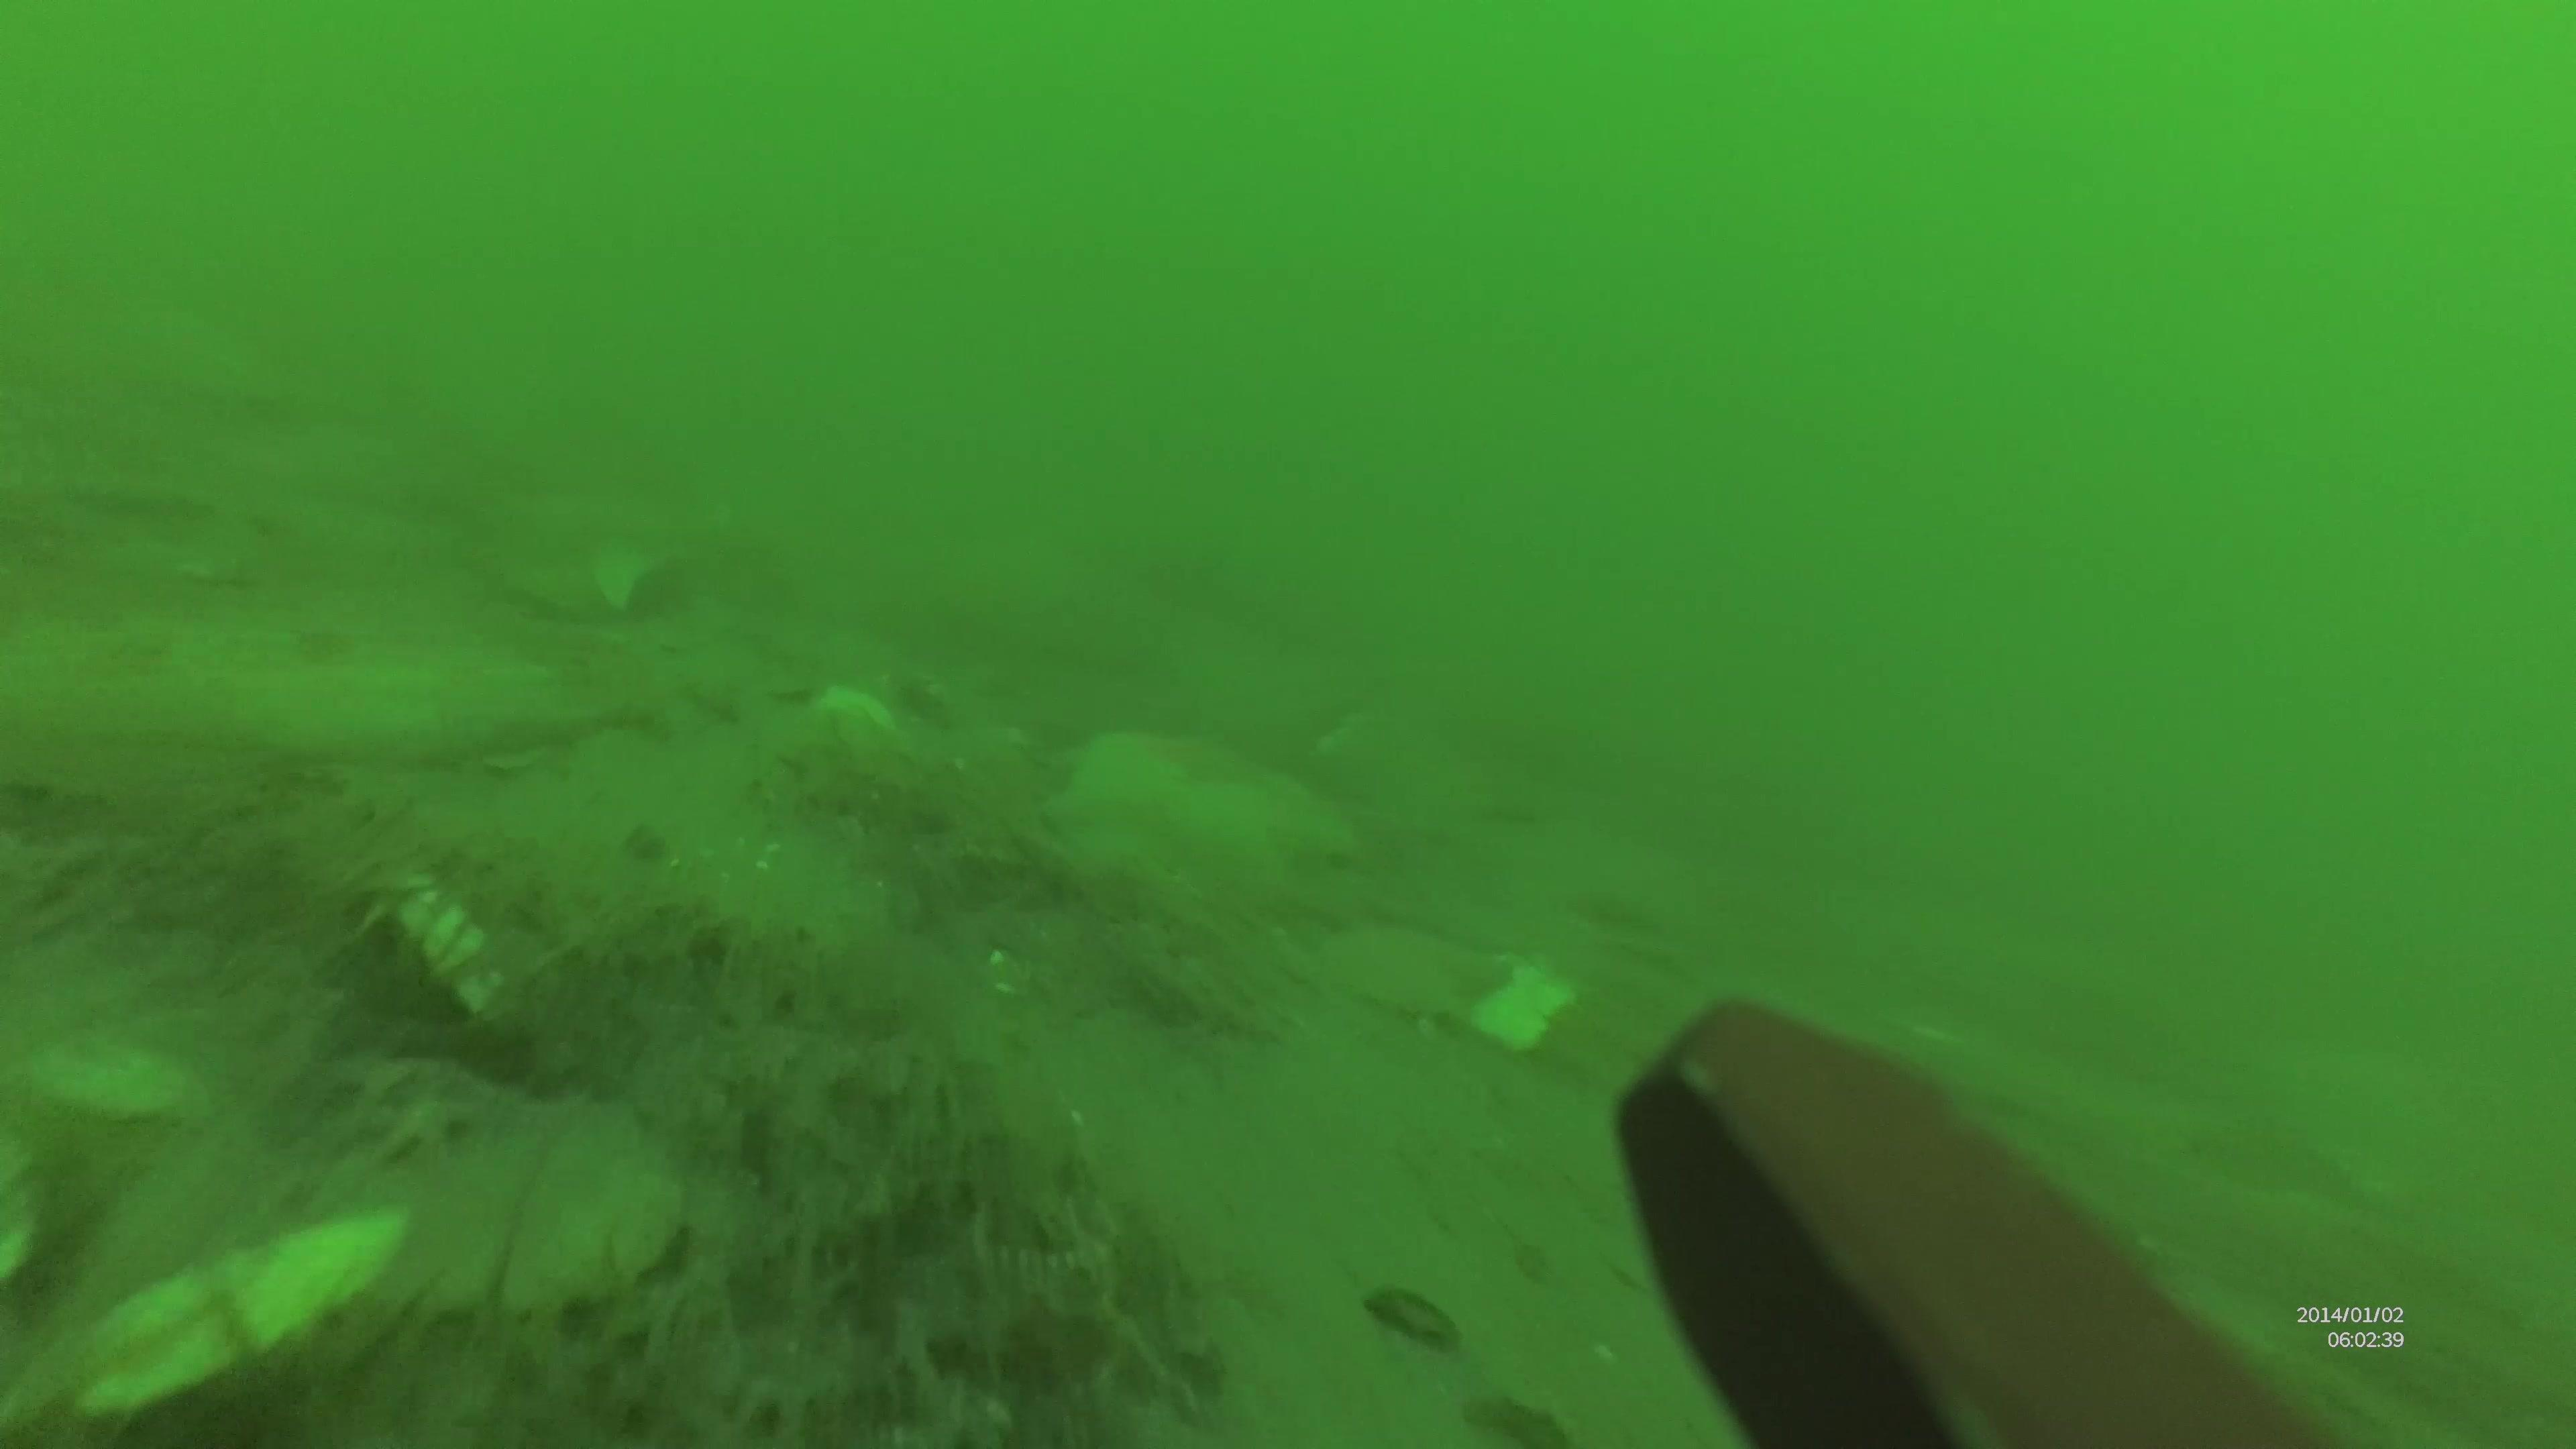scallop: (60, 1198, 419, 1428), (318, 1111, 690, 1307), (377, 872, 522, 1019), (32, 1030, 216, 1129), (1322, 920, 1514, 1014), (1476, 962, 1571, 1058), (816, 681, 916, 736)
starfish: (1039, 731, 1361, 885)
